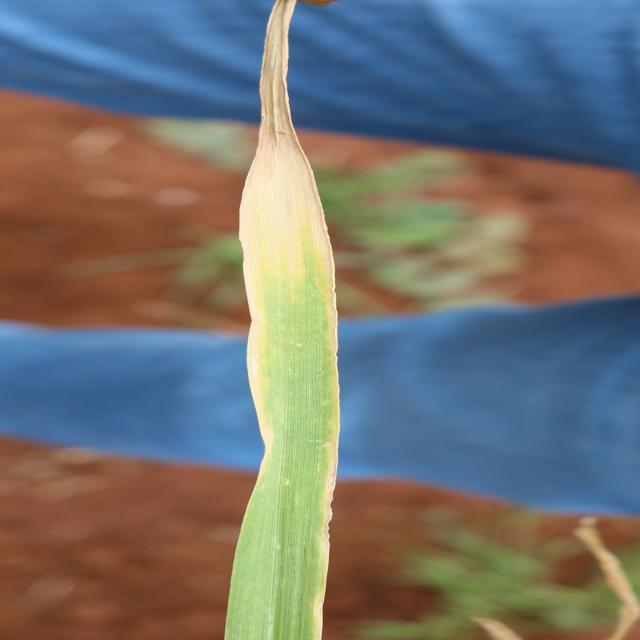Septoria: (222, 1, 342, 638)
